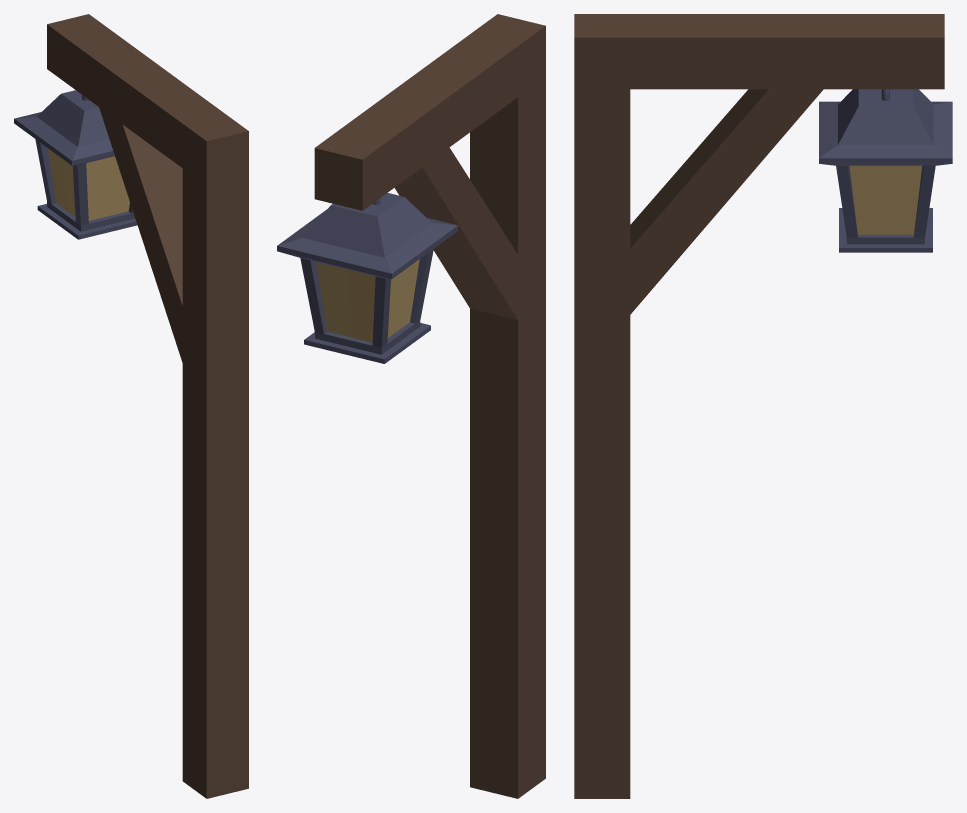
Rendered from MDL_LampPost.fbx.
3 views of the same model, side by side, from view 1: azimuth 30°, elevation 25°; view 2: azimuth 150°, elevation 25°; view 3: azimuth 270°, elevation 25° (orthographic). The views are drawn at different scales.
Visible parts, largest first — view 1: Plank, Lamp_Frame.001, Lamp_Light.001; view 2: Plank, Lamp_Frame.001, Lamp_Light.001; view 3: Plank, Lamp_Frame.001, Lamp_Light.001.
Part boxes in pixels (<box>): Plank: <box>47,14,248,798</box>; Lamp_Frame.001: <box>14,90,137,239</box>; Lamp_Light.001: <box>47,148,129,220</box>; Plank: <box>314,14,545,798</box>; Lamp_Frame.001: <box>277,193,457,363</box>; Lamp_Light.001: <box>316,259,419,342</box>; Plank: <box>574,14,944,798</box>; Lamp_Frame.001: <box>819,89,952,252</box>; Lamp_Light.001: <box>849,165,922,234</box>.
Bounding box in the file's own units: 39.36 × 247 × 111.
